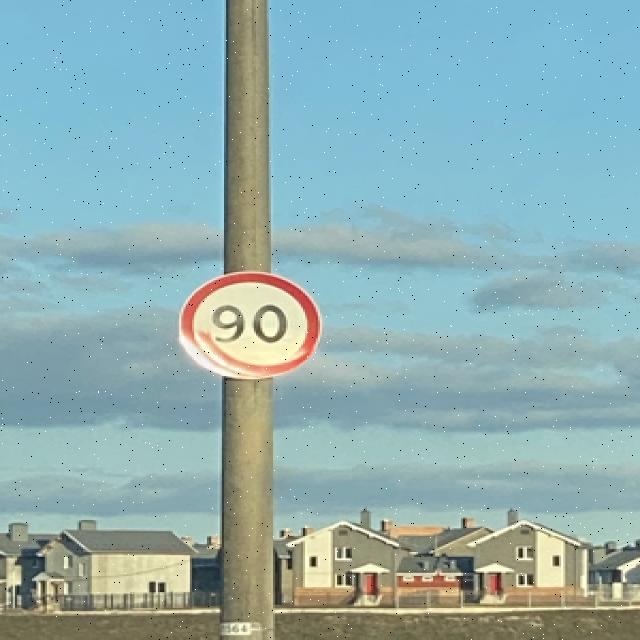Speedlimit: (175, 269, 322, 379)
